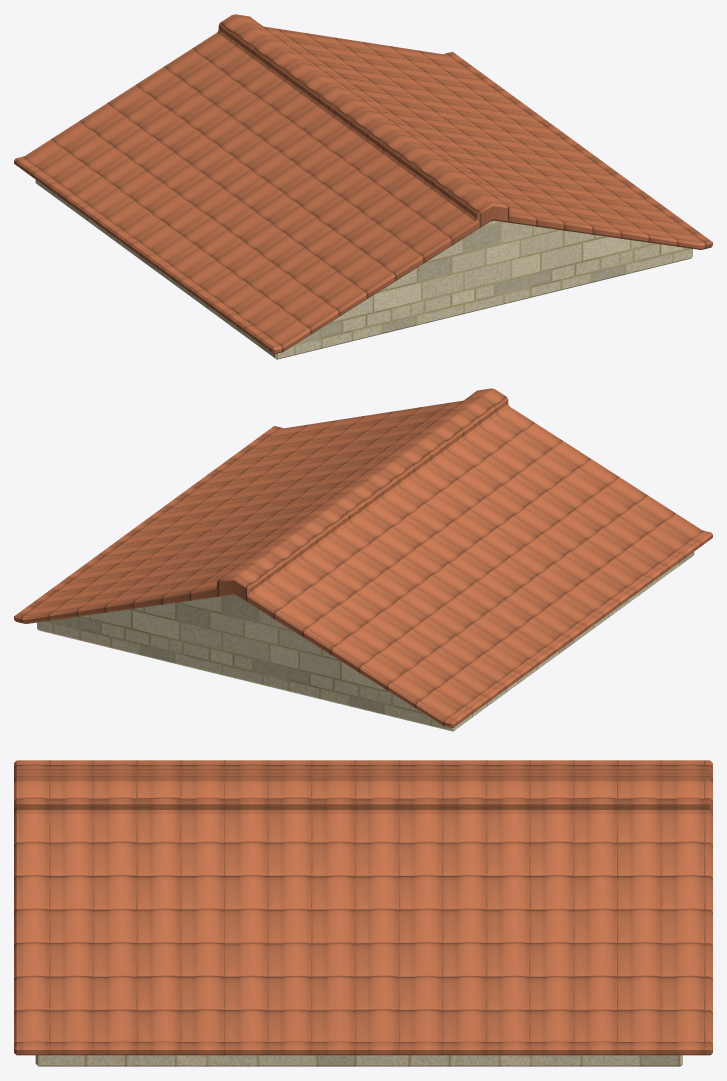
Rendered from Roof_1.gltf.
3 views of the same model, one above another, from view 1: azimuth 30°, elevation 25°; view 2: azimuth 150°, elevation 25°; view 3: azimuth 270°, elevation 25° (orthographic). The views are drawn at different scales.
Visible parts, largest first — view 1: Cube.007; view 2: Cube.007; view 3: Cube.007.
Part boxes in pixels (box(x1,y1,x2,y2)): Cube.007: box(14, 14, 712, 359); Cube.007: box(14, 388, 712, 731); Cube.007: box(14, 760, 712, 1066).
Bounding box in the file's own units: 15.17 × 3.66 × 15.55.
2 materials, 2 textured.
